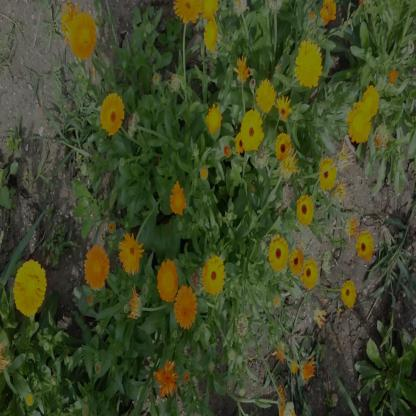marigold: (14, 261, 44, 315), (347, 94, 375, 141), (68, 13, 95, 60), (118, 230, 144, 275), (296, 42, 322, 87), (239, 107, 263, 152), (100, 93, 123, 137), (173, 286, 196, 330), (85, 248, 107, 290), (203, 256, 224, 297), (157, 263, 177, 303), (154, 363, 178, 394), (320, 154, 339, 191), (269, 235, 287, 273), (356, 232, 375, 264), (256, 80, 274, 113), (174, 0, 200, 21)
